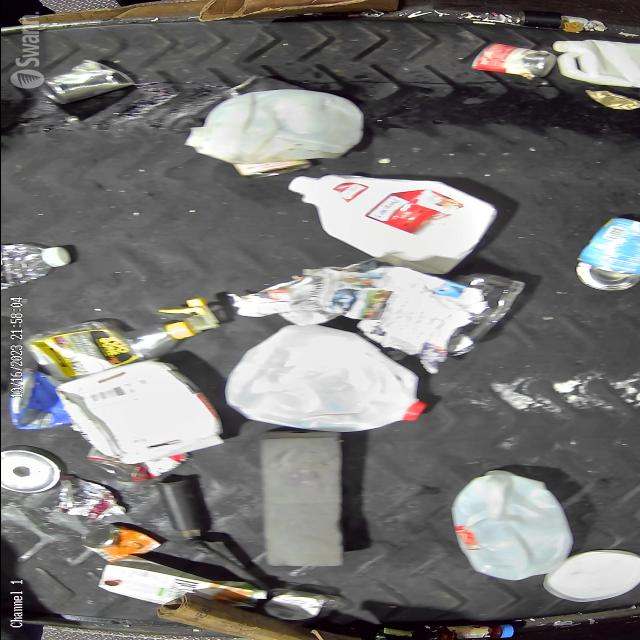can: (573, 216, 640, 293), (32, 58, 136, 105), (80, 445, 193, 482), (41, 474, 128, 522), (78, 522, 164, 562), (467, 42, 557, 78)
milk_jug: (282, 171, 500, 278), (220, 322, 430, 432), (445, 468, 576, 582), (180, 88, 368, 166)
plastic_bottle: (0, 240, 73, 292)
